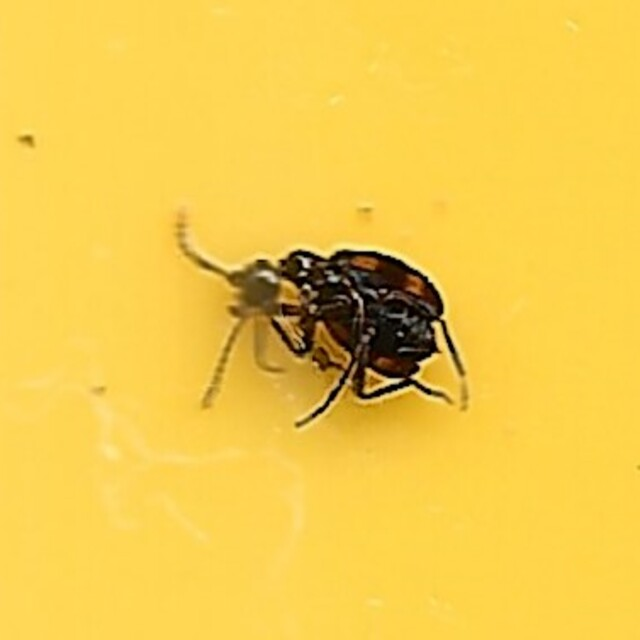Coleoptera: (170, 208, 470, 432)
